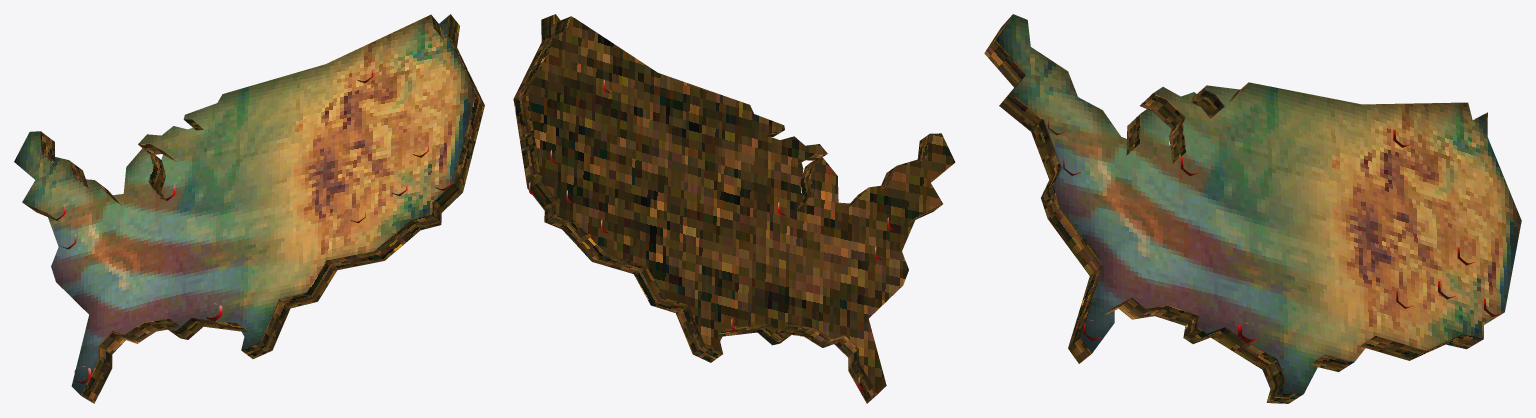
File: ps2_save-icons_usaracer.glb
3 views of the same model, side by side, from view 1: azimuth 30°, elevation 25°; view 2: azimuth 150°, elevation 25°; view 3: azimuth 330°, elevation 25° (orthographic). The views are drawn at different scales.
Parts seen in each view (by area): view 1: iconView.ico; view 2: iconView.ico; view 3: iconView.ico.
Part boxes in pixels (x1=…): iconView.ico: x1=14, y1=14, x2=484, y2=403; iconView.ico: x1=513, y1=14, x2=955, y2=403; iconView.ico: x1=984, y1=14, x2=1521, y2=403.
Bounding box in the file's own units: 4.51 × 2.91 × 0.5229.
1 material, 1 textured.
